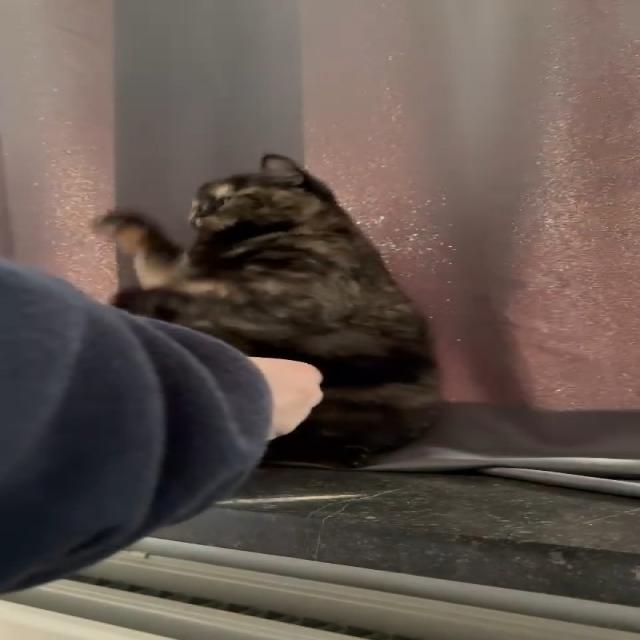authorized: (91, 153, 444, 470)
